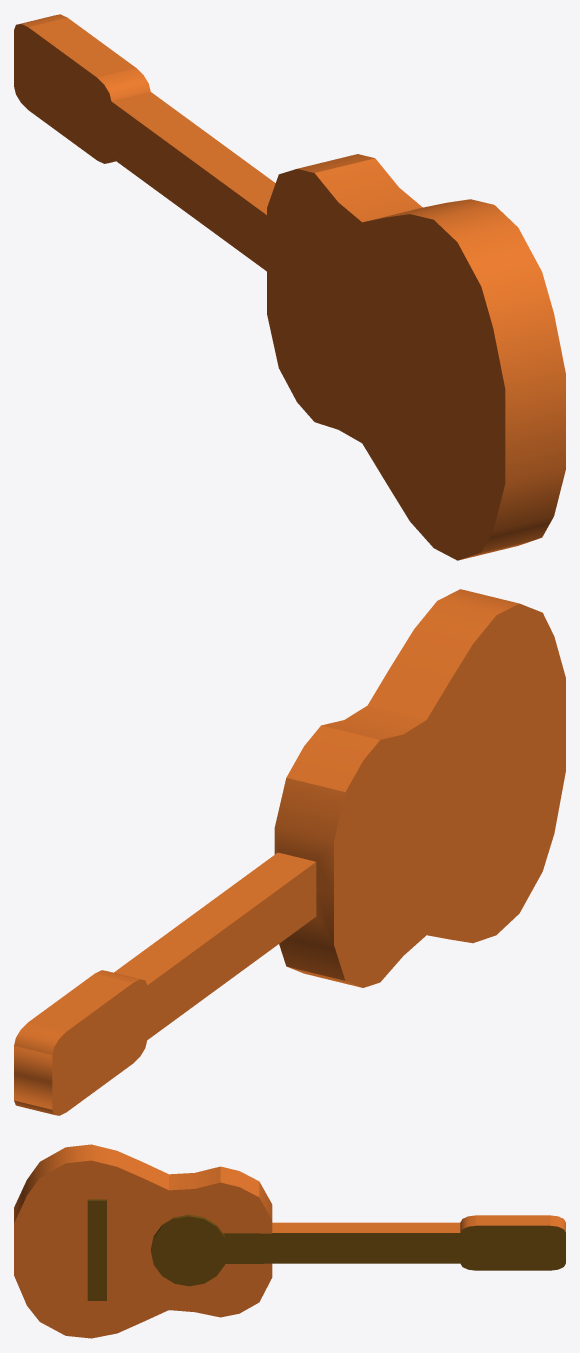
File: guitar.fbx
3 views of the same model, one above another, from view 1: azimuth 30°, elevation 25°; view 2: azimuth 150°, elevation 25°; view 3: azimuth 270°, elevation 25° (orthographic). The views are drawn at different scales.
Parts seen in each view (by area): view 1: Cube.044; view 2: Cube.044; view 3: Cube.044, Cylinder.002, Cube.045.
Boxes of the visible parts, x1=… form: Cube.044: x1=14, y1=14, x2=565, y2=560; Cube.044: x1=14, y1=589, x2=565, y2=1115; Cube.044: x1=14, y1=1144, x2=565, y2=1338; Cylinder.002: x1=151, y1=1214, x2=227, y2=1286; Cube.045: x1=87, y1=1199, x2=106, y2=1300.
Size of the model in its own units: 37.03 by 171 by 481.
